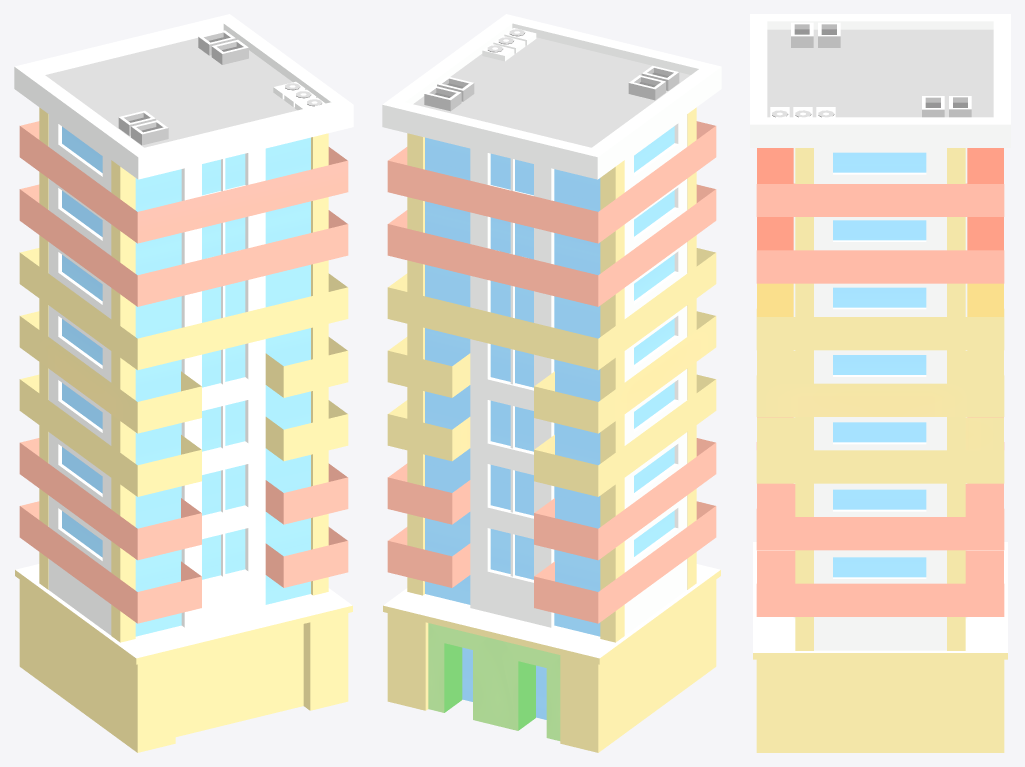
The model's file is apartment.008.glb.
3 views of the same model, side by side, from view 1: azimuth 30°, elevation 25°; view 2: azimuth 150°, elevation 25°; view 3: azimuth 270°, elevation 25° (orthographic). The views are drawn at different scales.
Visible parts, largest first — view 1: apartment.008(Clone); view 2: apartment.008(Clone); view 3: apartment.008(Clone).
Part boxes in pixels (box(x1,y1,x2,y2)): apartment.008(Clone): box(14, 14, 353, 752); apartment.008(Clone): box(382, 14, 721, 752); apartment.008(Clone): box(750, 14, 1010, 752).
Size of the model in its own units: 8.48 by 22.51 by 8.41.
Materials: 1 (1 with a texture image).
